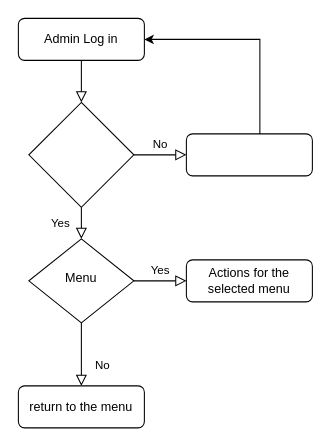
Image size: 331x446. Some labels were removed from this diagram. The box of each missing label's shape, as (x1, y1, x2, y2) in pixels:
Enter Username &Password: (28, 101, 134, 207)
return to the log in: (185, 133, 312, 176)
